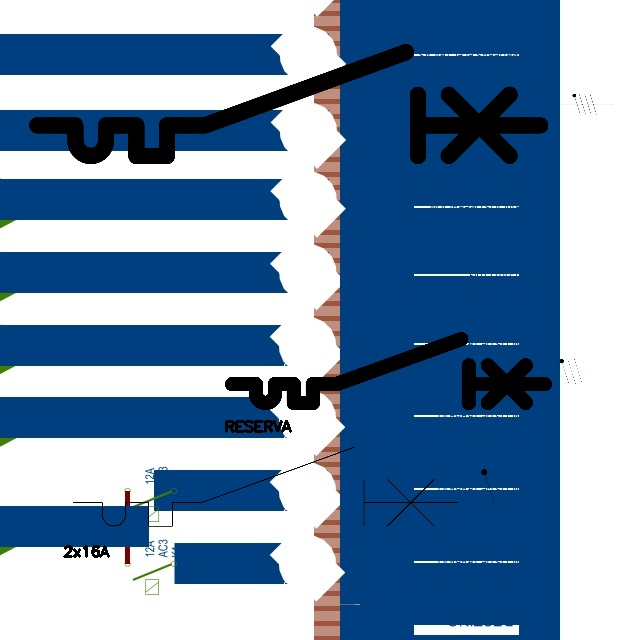interruptor_termomagnetico: (24, 39, 553, 169), (63, 437, 467, 536), (224, 331, 553, 411)
